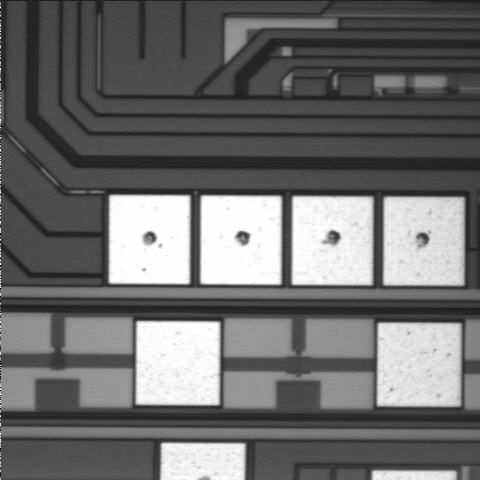pad: (200, 196, 282, 285), (109, 195, 190, 284), (292, 196, 373, 285), (136, 321, 220, 405), (384, 197, 464, 285), (377, 323, 461, 406)
